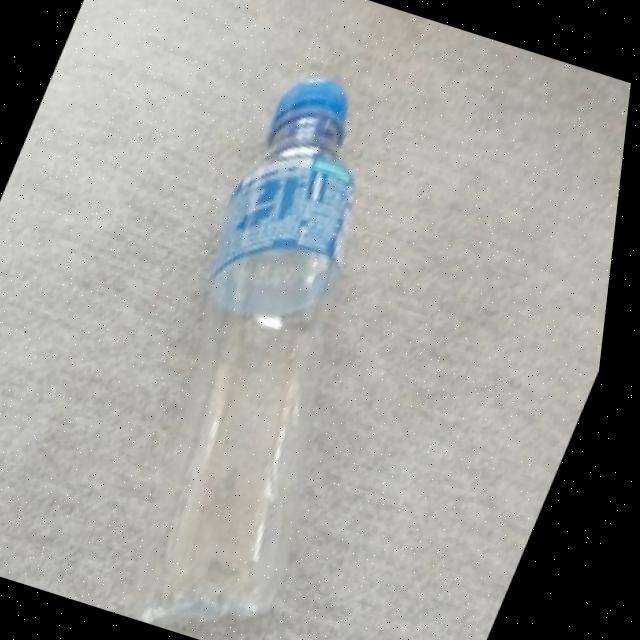sise: (72, 59, 486, 640)
